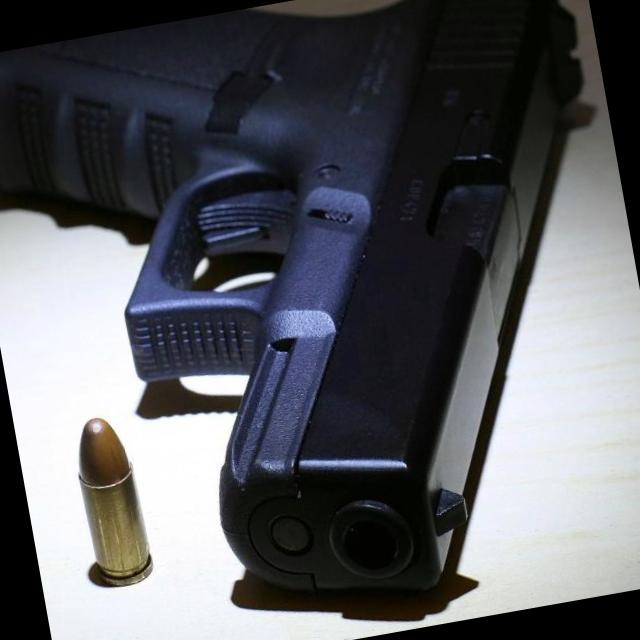Gun: (0, 0, 581, 589)
